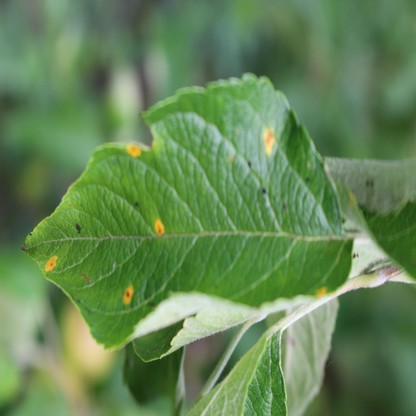rust: (262, 127, 277, 156), (126, 143, 141, 157), (124, 284, 133, 305), (154, 219, 165, 236), (45, 256, 58, 270), (317, 287, 326, 299)
